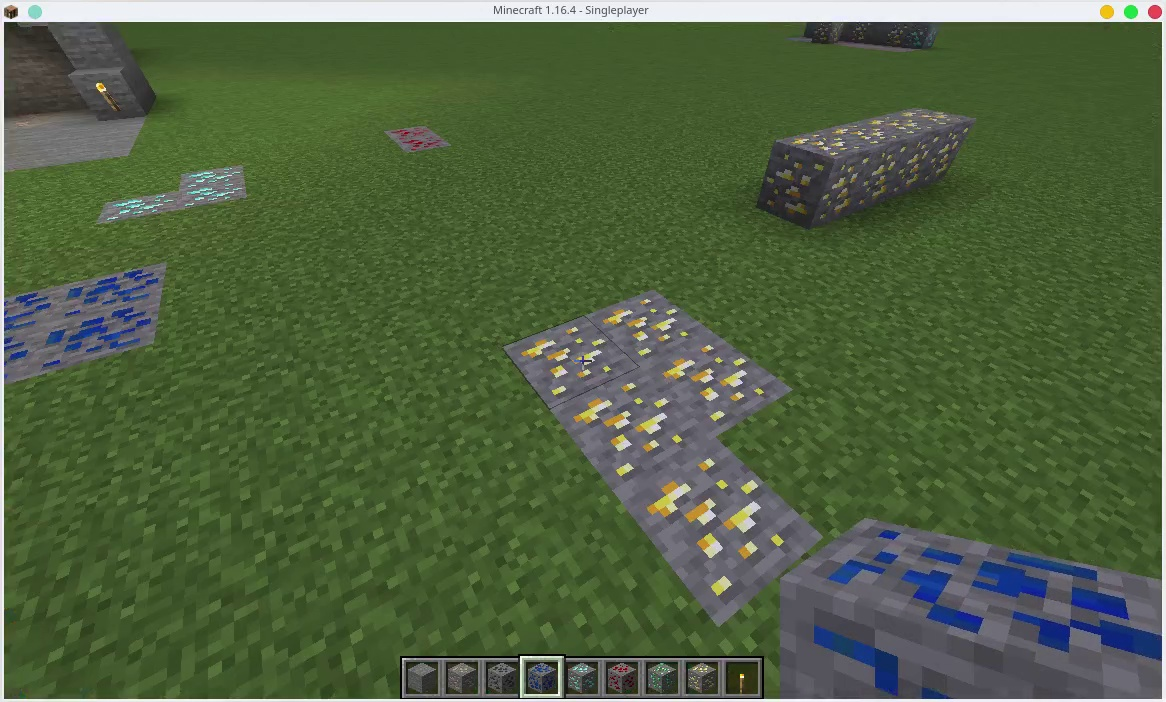gold: (642, 465, 771, 571), (574, 392, 684, 474), (662, 357, 775, 423), (509, 327, 610, 388), (775, 131, 841, 221), (843, 111, 898, 213), (916, 95, 966, 188), (605, 298, 684, 351), (889, 116, 932, 193), (683, 661, 714, 691)
